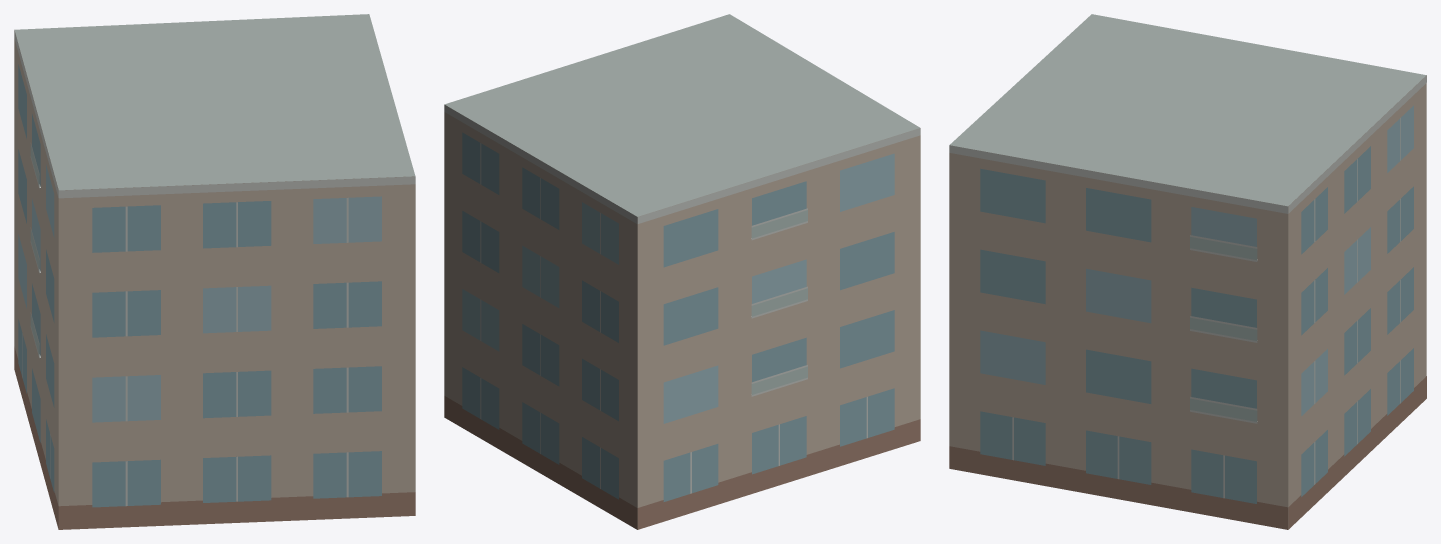
Rendered from survey-upis-32533317.glb.
3 renders of one model, left to right at view 1: azimuth 30°, elevation 25°; view 2: azimuth 150°, elevation 25°; view 3: azimuth 270°, elevation 25°, orthographic. The views are drawn at different scales.
Parts seen in each view (by area): view 1: survey-upis-32533317.tmp; view 2: survey-upis-32533317.tmp; view 3: survey-upis-32533317.tmp.
Boxes of the visible parts, bbox=[...] form: survey-upis-32533317.tmp: bbox=[14, 14, 415, 529]; survey-upis-32533317.tmp: bbox=[444, 14, 920, 529]; survey-upis-32533317.tmp: bbox=[949, 14, 1426, 529].
Size of the model in its own units: 13.21 by 10.35 by 13.85.
